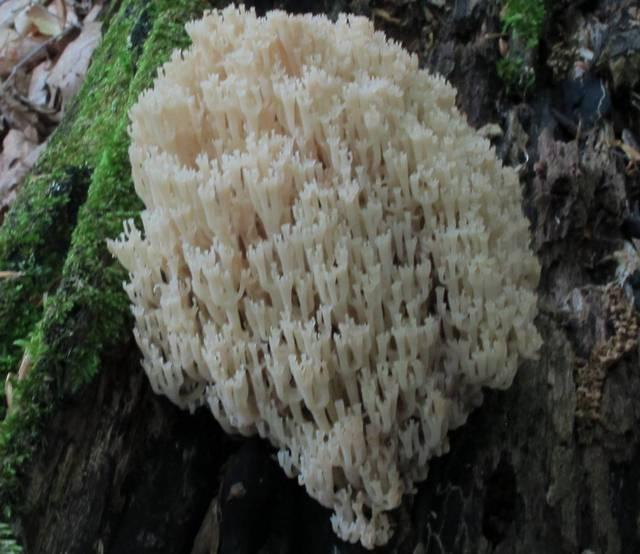edible_mushroom: (103, 2, 545, 549)
